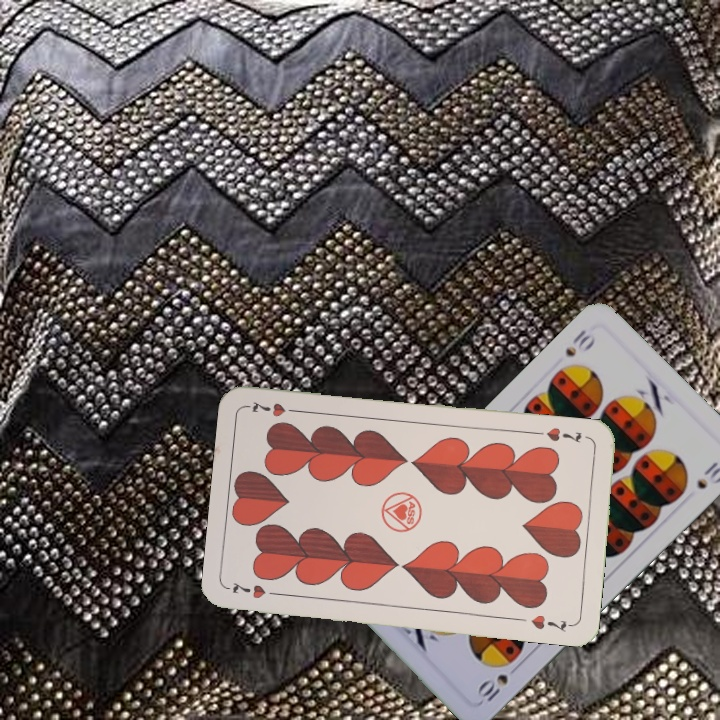H7: (226, 578, 285, 601), (543, 423, 584, 446)
S10: (473, 670, 511, 705), (561, 325, 599, 360)
